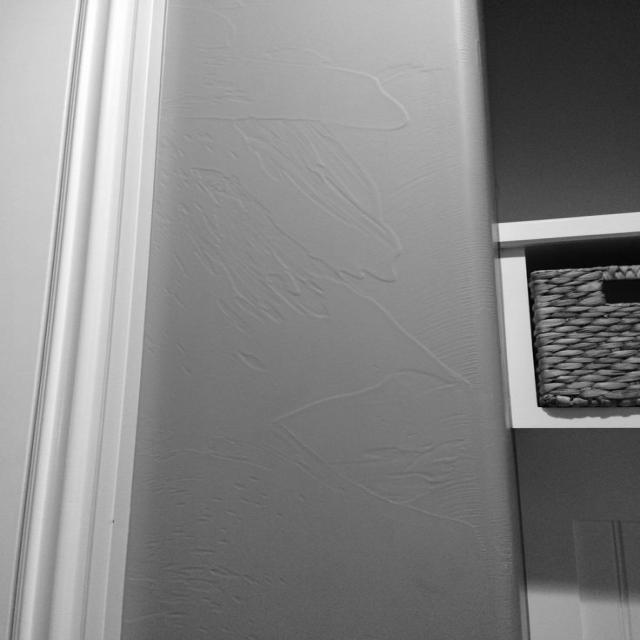trowels marks: (131, 8, 524, 640)
